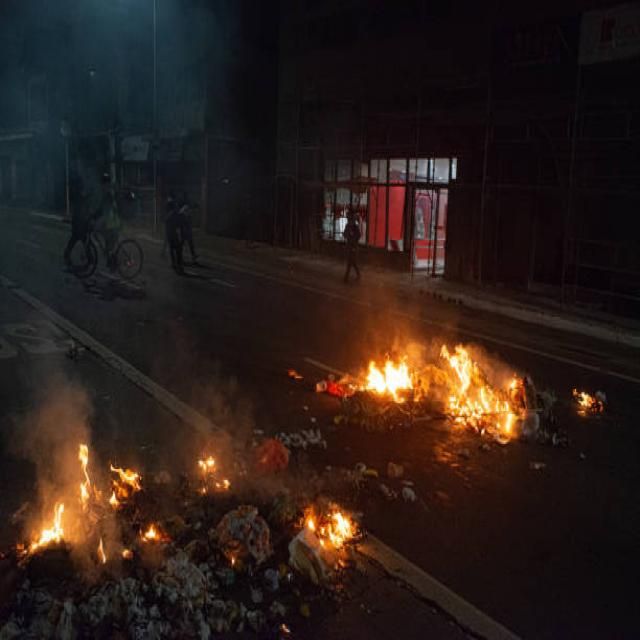fire: (440, 343, 527, 445), (293, 498, 363, 577), (15, 501, 65, 566), (348, 356, 414, 402), (110, 463, 143, 510), (198, 456, 230, 496)
